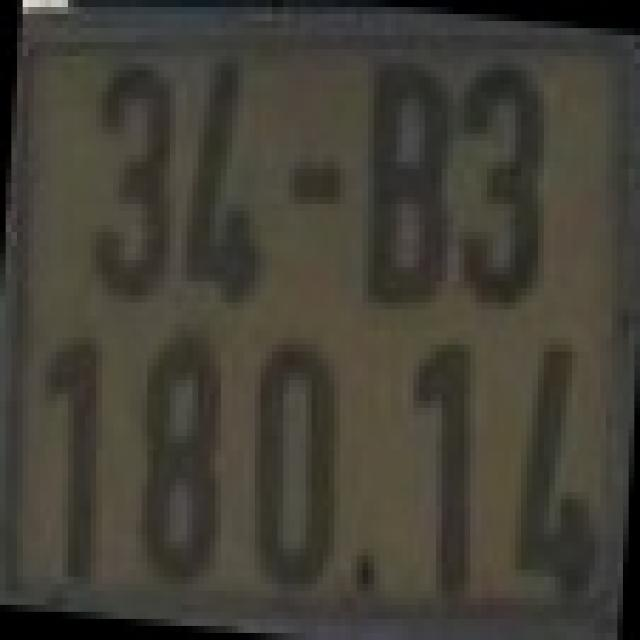0: (249, 338, 340, 590)
1: (408, 338, 487, 598), (40, 330, 108, 576)
3: (85, 56, 176, 302), (459, 64, 549, 302)
4: (510, 338, 600, 598), (181, 49, 266, 310)
8: (136, 331, 226, 584)
B: (363, 56, 453, 310)
